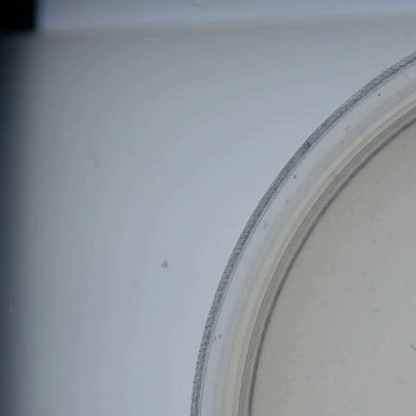worm: (407, 340, 416, 359)
